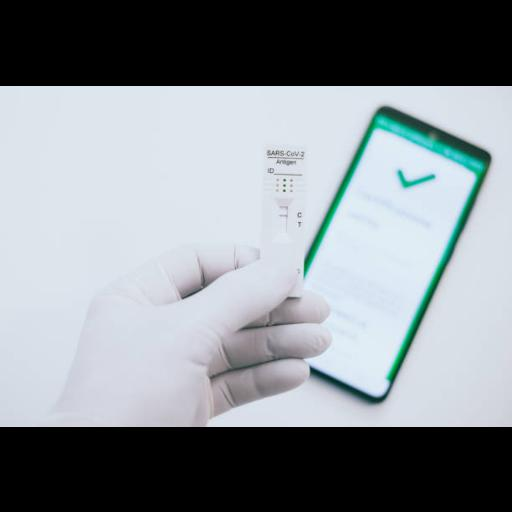Neg: (262, 142, 302, 296)
